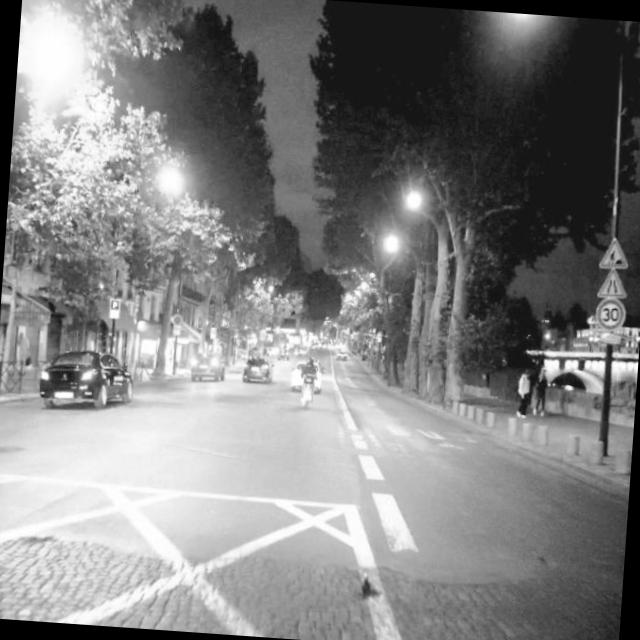Sign: (594, 297, 627, 333), (600, 237, 630, 270), (598, 266, 628, 299)
